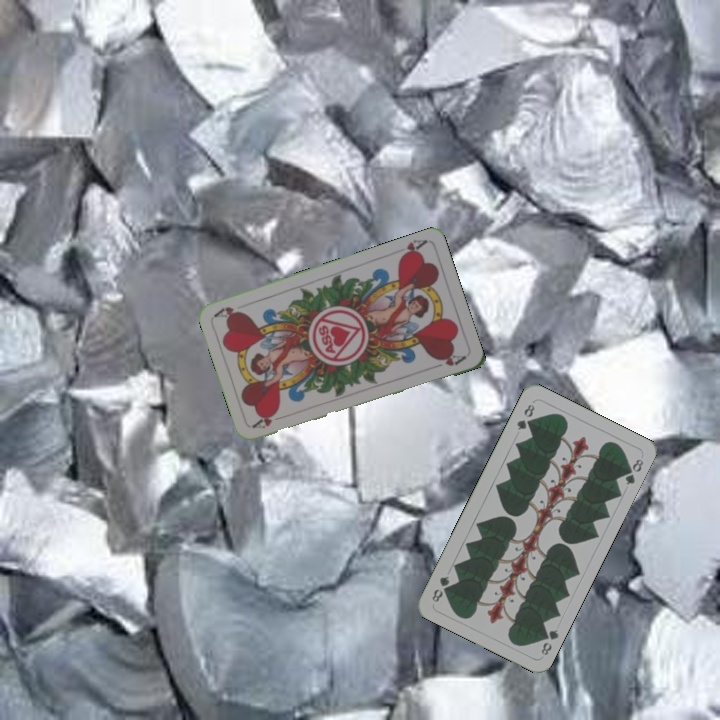G8: (512, 400, 537, 433), (537, 625, 561, 658)
HA: (395, 235, 430, 262), (249, 410, 289, 431)
